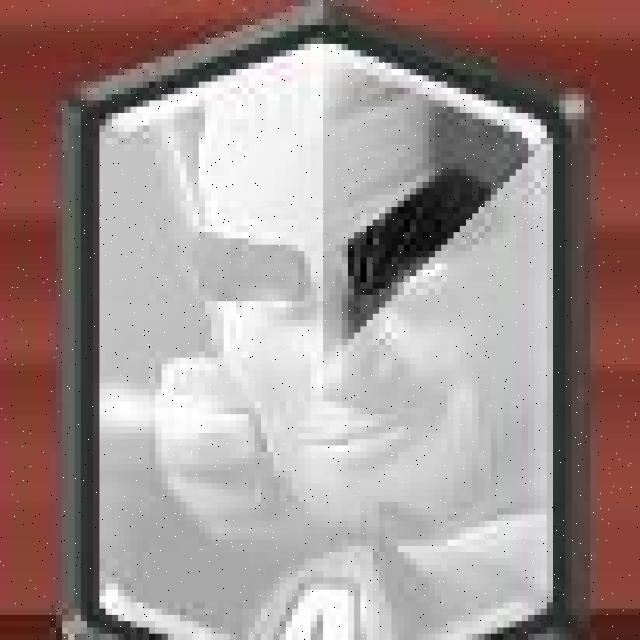Magic_Archer: (58, 12, 582, 639)
